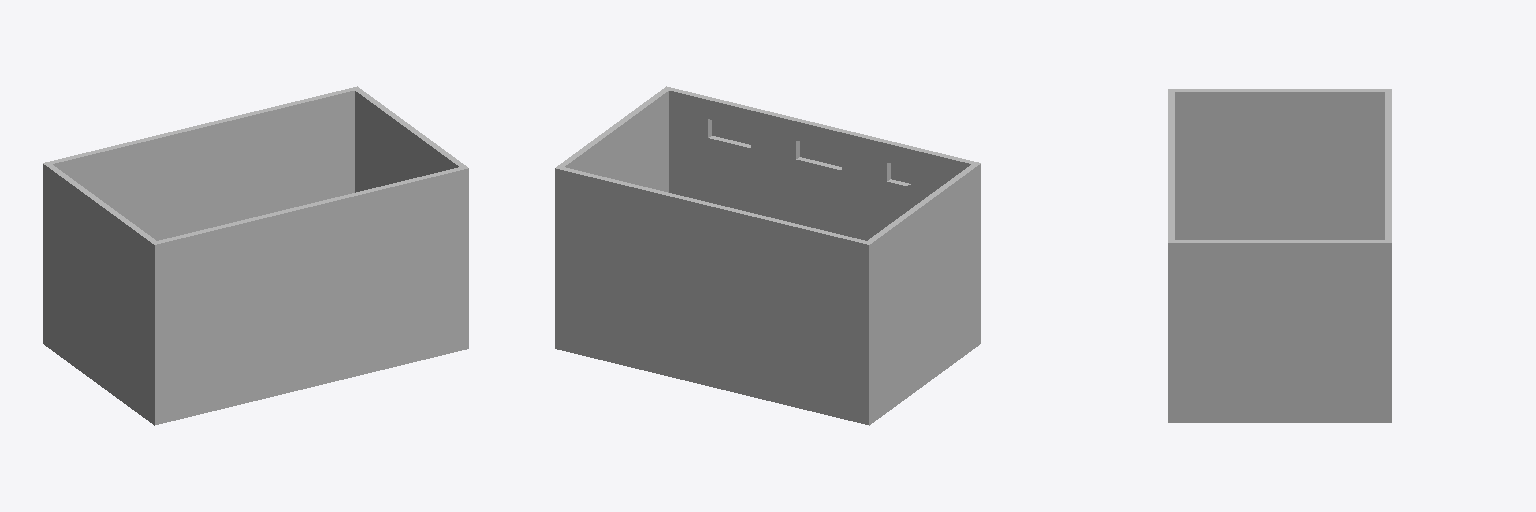
Rendered from LSATank.obj.
3 renders of one model, left to right at view 1: azimuth 30°, elevation 25°; view 2: azimuth 150°, elevation 25°; view 3: azimuth 270°, elevation 25°, orthographic.
Visible parts, largest first — view 1: Tanque_Lsa; view 2: Tanque_Lsa; view 3: Tanque_Lsa.
Boxes of the visible parts, x1=… form: Tanque_Lsa: x1=43, y1=86, x2=468, y2=425; Tanque_Lsa: x1=555, y1=86, x2=980, y2=425; Tanque_Lsa: x1=1168, y1=89, x2=1391, y2=422.
Bounding box in the file's own units: 10.4 × 5.7 × 6.4.